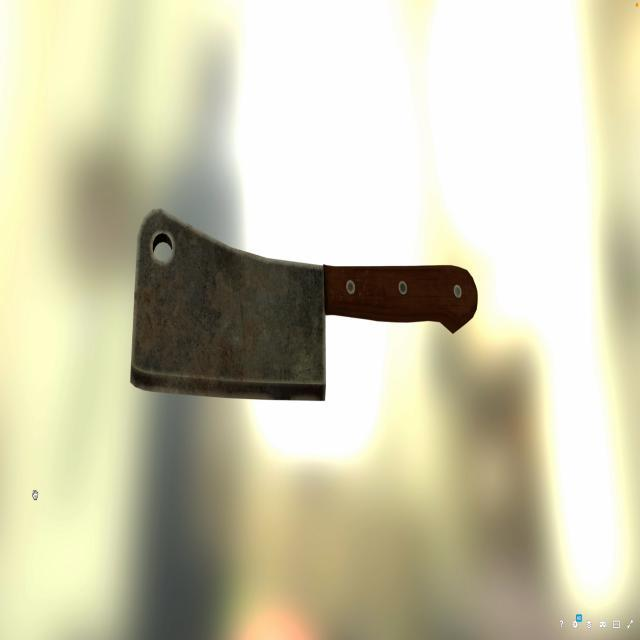cleaver: (130, 200, 488, 421)
